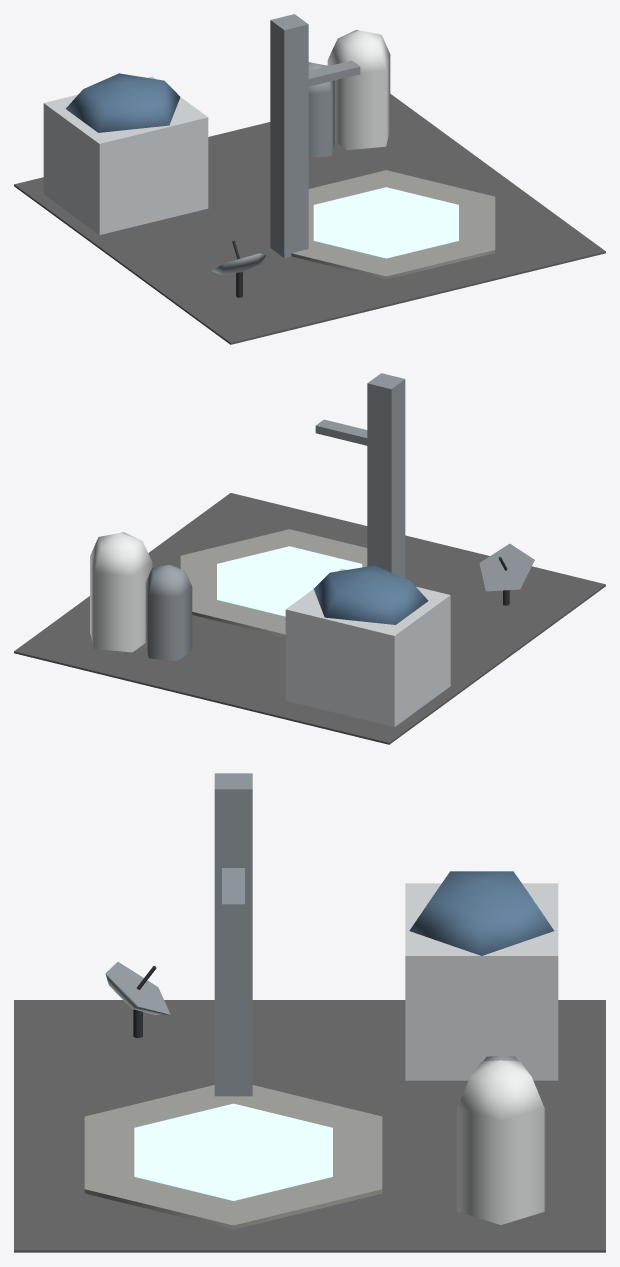
The model's file is bld_special_spaceport_a09_lod2.glb.
3 views of the same model, one above another, from view 1: azimuth 30°, elevation 25°; view 2: azimuth 150°, elevation 25°; view 3: azimuth 270°, elevation 25° (orthographic). The views are drawn at different scales.
Parts seen in each view (by area): view 1: body, gantry, antenna; view 2: body, gantry, antenna; view 3: body, gantry, antenna.
Part boxes in pixels (x1,y1,x2,y2): body: (14,30,605,344); gantry: (270,14,360,258); antenna: (211,240,265,297); body: (14,493,605,744); gantry: (315,373,405,578); antenna: (479,543,534,605); body: (14,871,605,1252); gantry: (214,773,252,1096); antenna: (105,962,170,1038).
Size of the model in its own units: 31 by 18.15 by 31.
